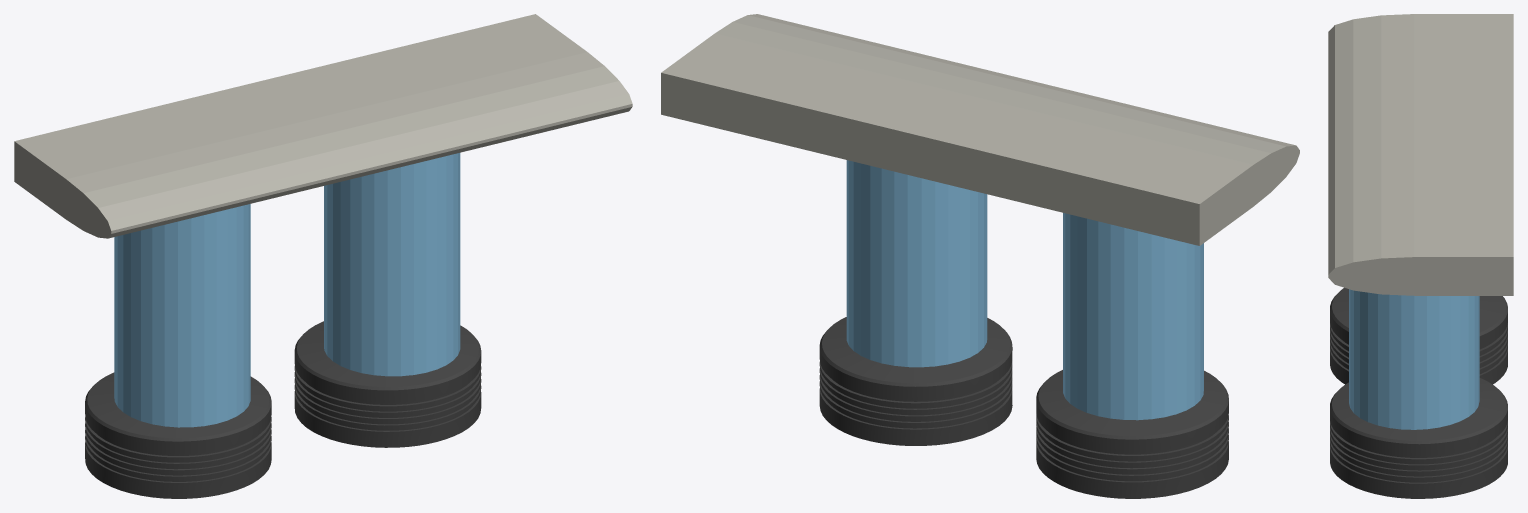
The model's file is tuyau d'experience.glb.
3 renders of one model, left to right at view 1: azimuth 30°, elevation 25°; view 2: azimuth 150°, elevation 25°; view 3: azimuth 270°, elevation 25°, orthographic. The views are drawn at different scales.
Parts seen in each view (by area): view 1: Cube.001, Cylinder.003, Cylinder.004, Base.002, Base.001; view 2: Cube.001, Cylinder.003, Cylinder.004, Base.002, Base.001; view 3: Cube.001, Cylinder.003, Base.002, Base.001.
Part boxes in pixels (x1,y1,x2,y2): Cube.001: [14, 14, 632, 238]; Cylinder.003: [324, 153, 460, 376]; Cylinder.004: [114, 204, 250, 427]; Base.002: [294, 321, 481, 447]; Base.001: [85, 372, 271, 498]; Cube.001: [661, 14, 1299, 245]; Cylinder.003: [846, 160, 987, 367]; Cylinder.004: [1063, 213, 1203, 420]; Base.002: [819, 317, 1012, 445]; Base.001: [1036, 370, 1228, 498]; Cube.001: [1328, 14, 1513, 295]; Cylinder.003: [1349, 289, 1479, 429]; Base.002: [1330, 378, 1507, 498]; Base.001: [1330, 287, 1507, 384].
Bounding box in the file's own units: 3.31 × 1.91 × 1.07.
